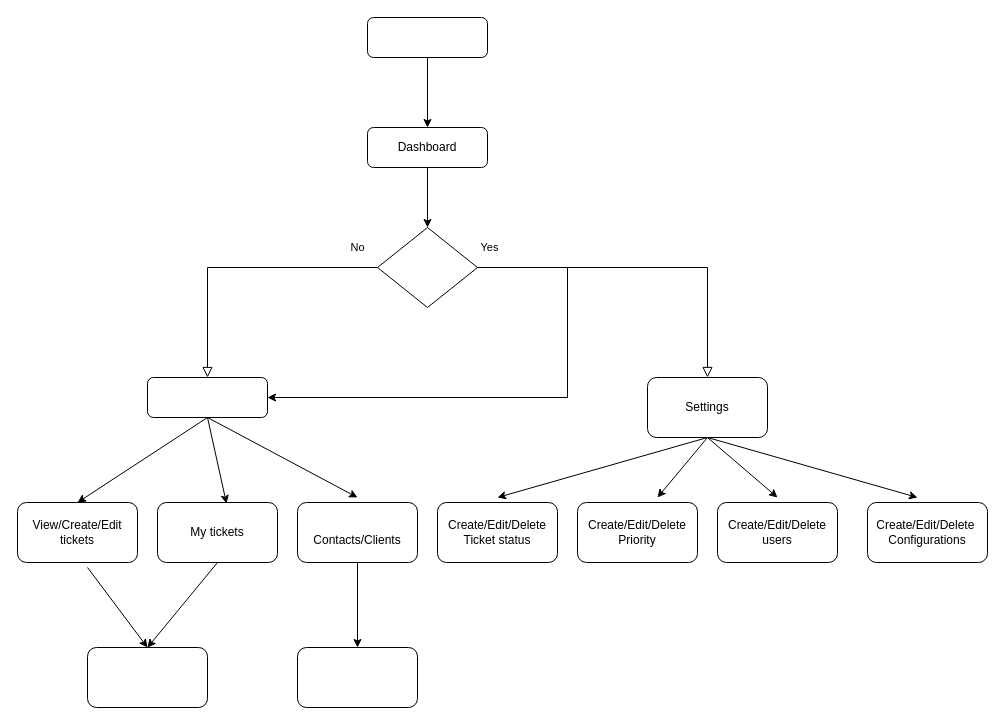
This 1005x725 diagram has some shape labels left out. The box of each missing label's shape, as (x1, y1, x2, y2) in pixels:
Add resolution steps: (86, 646, 208, 708)
Add/Edit Contacts: (296, 646, 418, 708)
Is admin: (376, 226, 478, 308)
Service Desk: (146, 376, 268, 418)
User Login: (366, 16, 488, 58)
